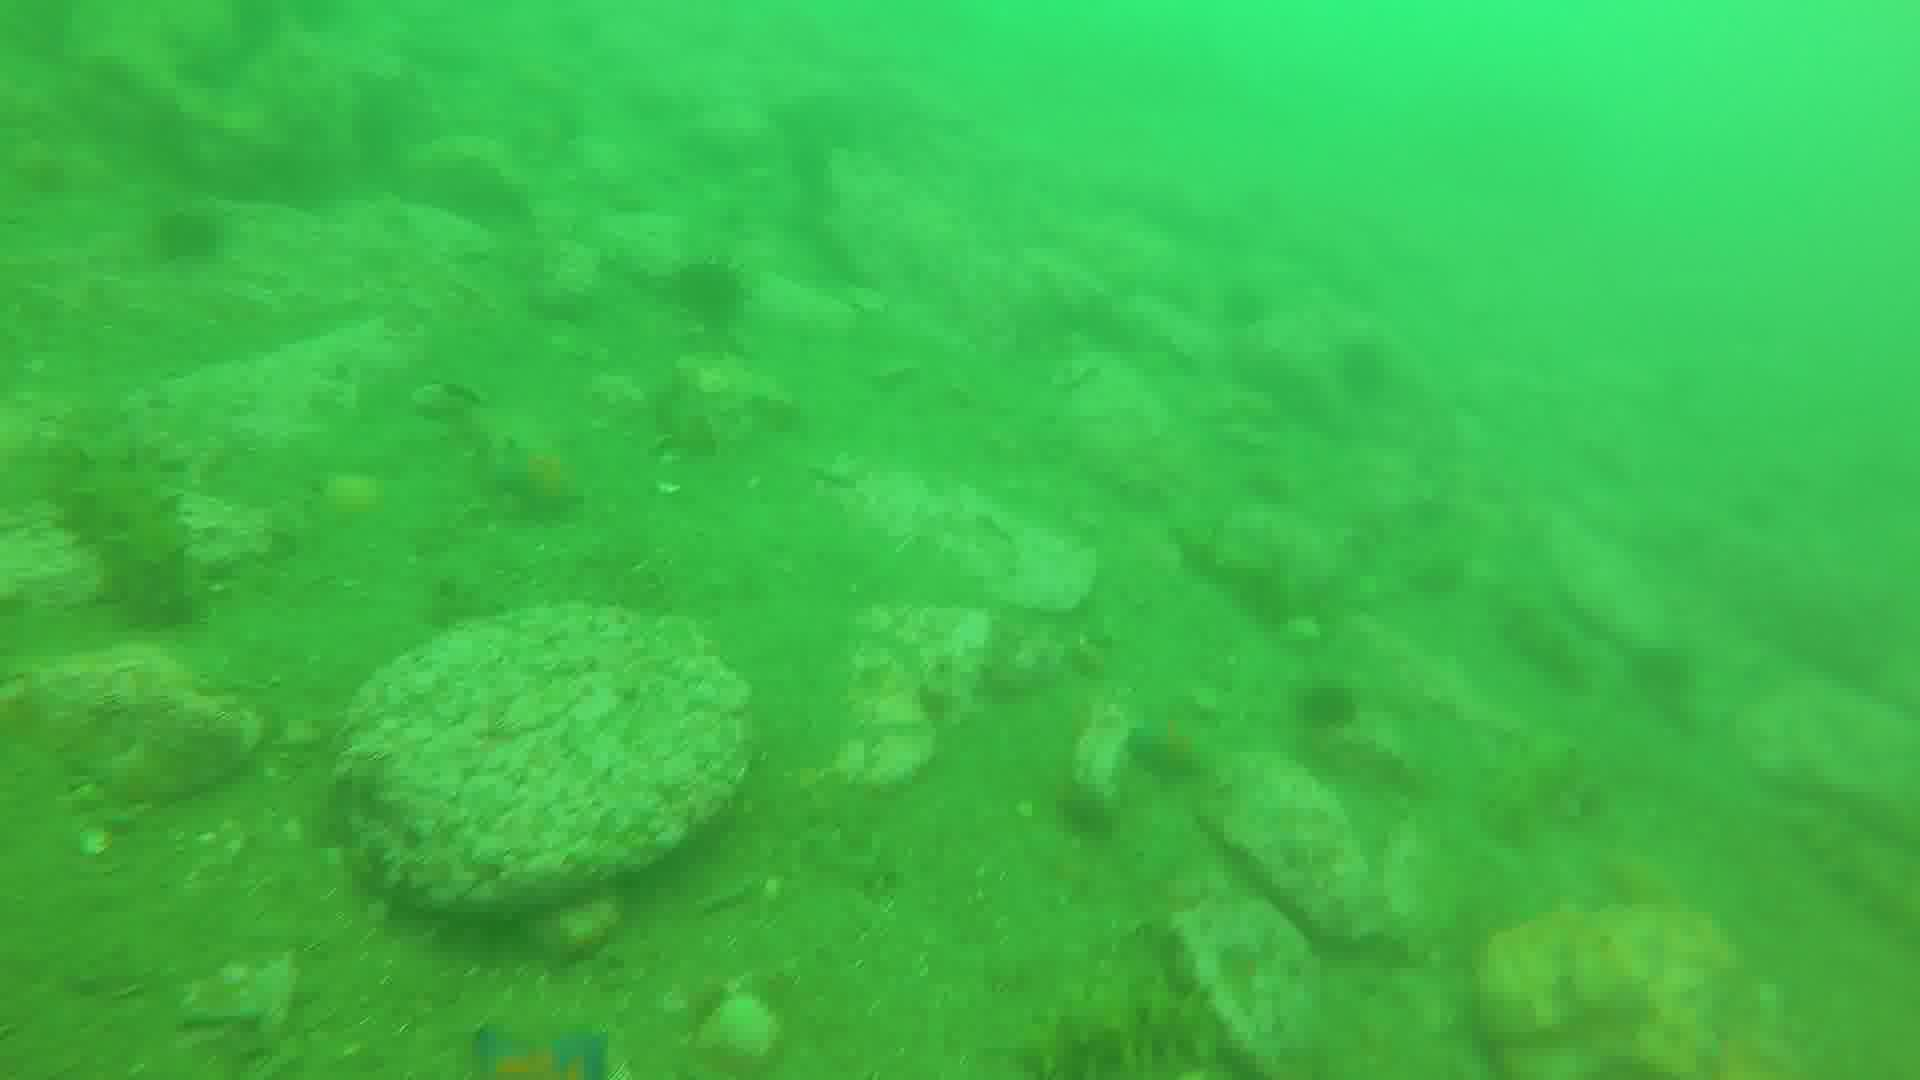echinus: (671, 257, 752, 324), (152, 204, 237, 258), (1295, 678, 1360, 731), (305, 1, 357, 55), (215, 1, 285, 38)
holothurian: (49, 414, 204, 624), (998, 997, 1240, 1080)
starfish: (464, 1015, 622, 1080), (488, 438, 595, 517), (1116, 720, 1211, 790)
